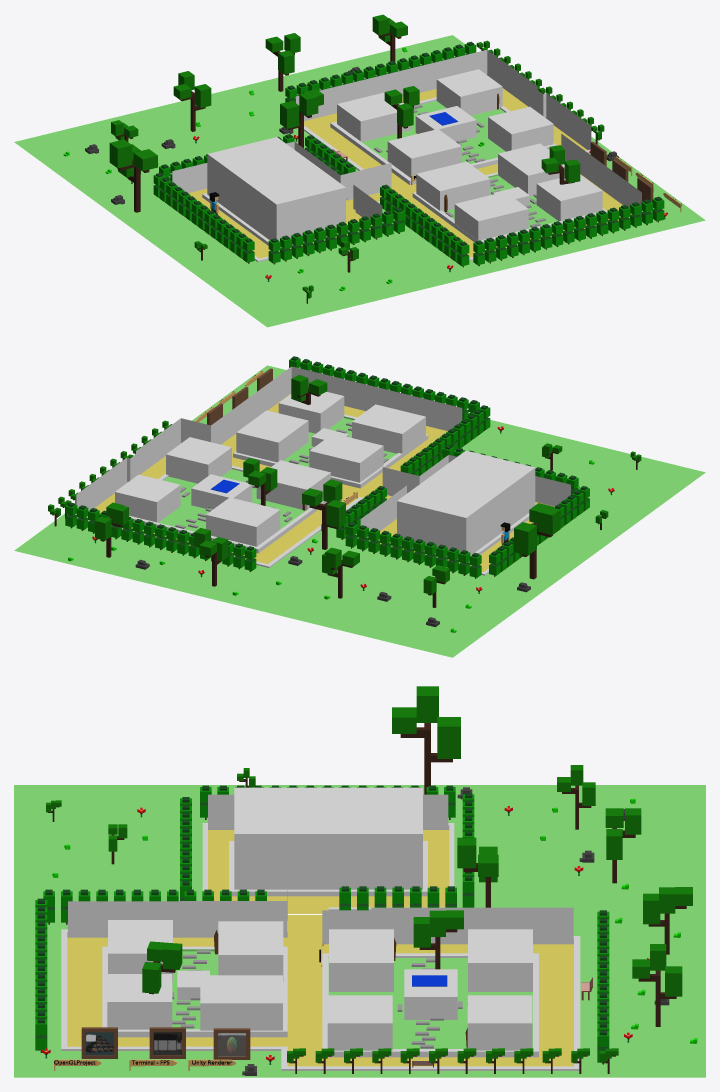
File: portfolio_collider.glb
The picture shows the model from 3 angles, top to bottom: view 1: azimuth 30°, elevation 25°; view 2: azimuth 150°, elevation 25°; view 3: azimuth 270°, elevation 25°; orthographic projection. The views are drawn at different scales.
Visible parts, largest first — view 1: Ground, Tree.007, Border, Plane, Plane.007, Plane.005, Plane.003, Plane.002, Plane.001, Plane.004, Plane.008, Plane.006 (+1 smaller); view 2: Ground, Tree.007, Border, Plane, Plane.006, Plane.001, Plane.005, Plane.007, Plane.004, Plane.002, Plane.003, Plane.008 (+1 smaller); view 3: Ground, Tree.007, Plane, Border, Plane.006, Plane.001, Plane.003, Plane.005, Plane.004, Plane.002, Plane.008, Plane.007 (+5 smaller).
Boxes of the visible parts, box(x1,y1,x2,y2) form: Ground: box(14, 35, 705, 327); Tree.007: box(63, 14, 667, 303); Border: box(172, 50, 641, 226); Plane: box(207, 137, 345, 241); Plane.007: box(454, 191, 528, 240); Plane.005: box(416, 161, 490, 211); Plane.003: box(387, 129, 461, 177); Plane.002: box(436, 69, 502, 115); Plane.001: box(337, 92, 411, 141); Plane.004: box(488, 106, 553, 151); Plane.008: box(536, 175, 602, 220); Plane.006: box(498, 143, 564, 196); Ground: box(14, 365, 705, 657); Tree.007: box(48, 356, 641, 632); Border: box(76, 366, 570, 530); Plane: box(397, 450, 535, 555); Plane.006: box(236, 410, 308, 462); Plane.001: box(206, 497, 280, 546); Plane.005: box(309, 433, 383, 482); Plane.007: box(352, 404, 425, 453); Plane.004: box(166, 437, 231, 483); Plane.002: box(115, 474, 180, 522); Plane.003: box(256, 460, 330, 510); Plane.008: box(278, 391, 344, 433); Ground: box(14, 785, 705, 1077); Tree.007: box(35, 686, 697, 1075); Plane: box(234, 787, 422, 889); Border: box(68, 794, 573, 943); Plane.006: box(200, 975, 282, 1030); Plane.001: box(468, 929, 532, 991); Plane.003: box(329, 929, 393, 991); Plane.005: box(218, 921, 283, 981); Plane.004: box(327, 995, 392, 1050); Plane.002: box(467, 995, 532, 1050); Plane.008: box(107, 974, 172, 1029); Plane.007: box(108, 920, 172, 982).
Size of what is drawn, in the model's own units: 290 by 52.2 by 288.
40 materials, 3 textured.
